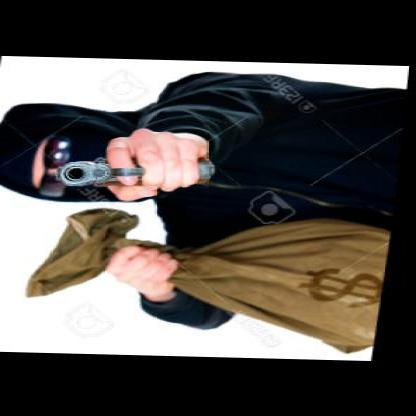pistol: (54, 153, 216, 194)
